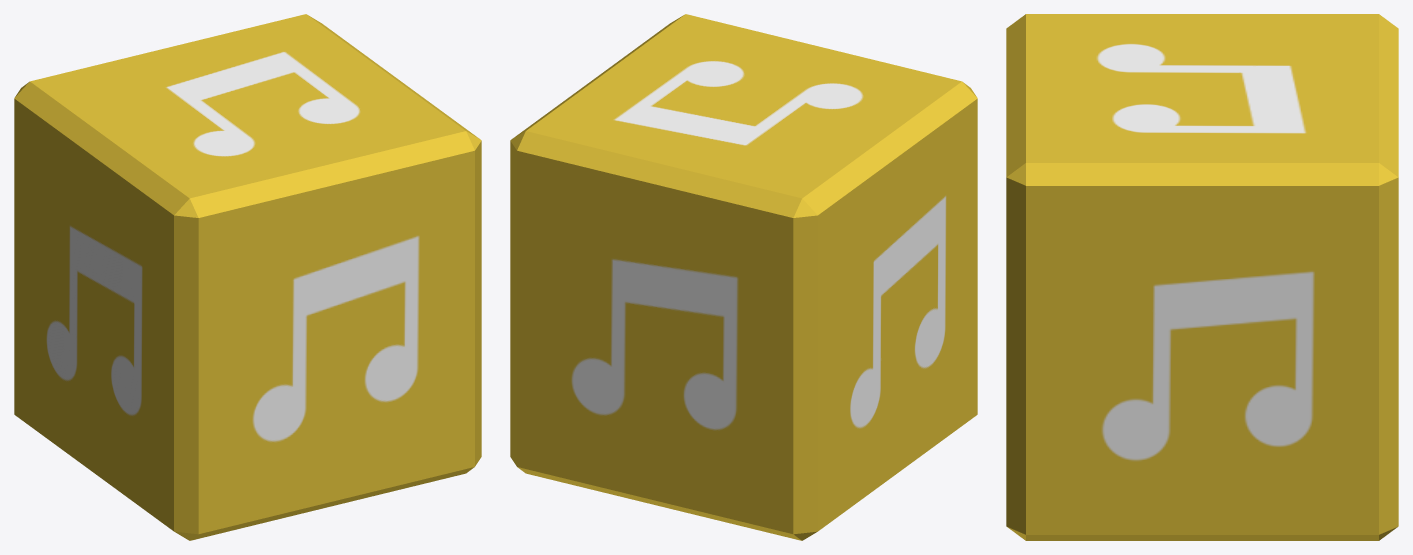
Rendered from HitBoxJukebox.glb.
3 views of the same model, side by side, from view 1: azimuth 30°, elevation 25°; view 2: azimuth 150°, elevation 25°; view 3: azimuth 270°, elevation 25° (orthographic). The views are drawn at different scales.
Visible parts, largest first — view 1: Cube; view 2: Cube; view 3: Cube.
Part boxes in pixels (bbox=[...]): Cube: bbox=[14, 14, 481, 540]; Cube: bbox=[510, 14, 977, 540]; Cube: bbox=[1006, 14, 1398, 540].
Bounding box in the file's own units: 2 × 2.13 × 2.
1 material, 1 textured.
